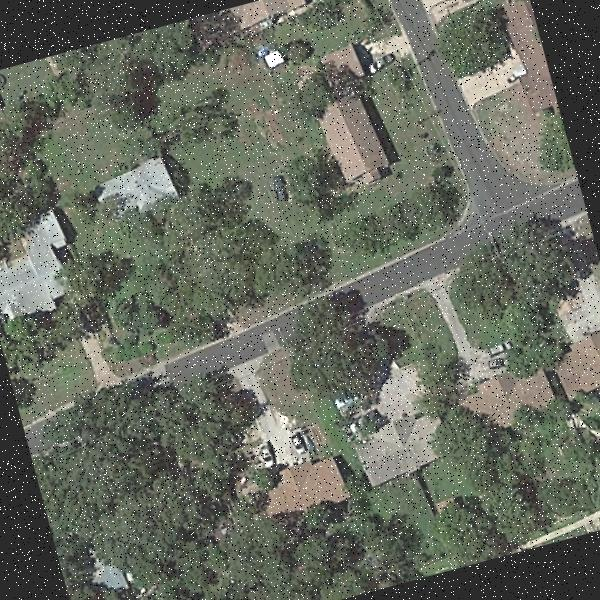Buildings: (500, 0, 560, 119), (351, 416, 439, 490), (320, 86, 381, 188), (256, 456, 349, 522), (0, 237, 69, 313), (94, 154, 172, 212), (470, 370, 548, 424), (551, 326, 600, 396), (232, 0, 311, 26)
